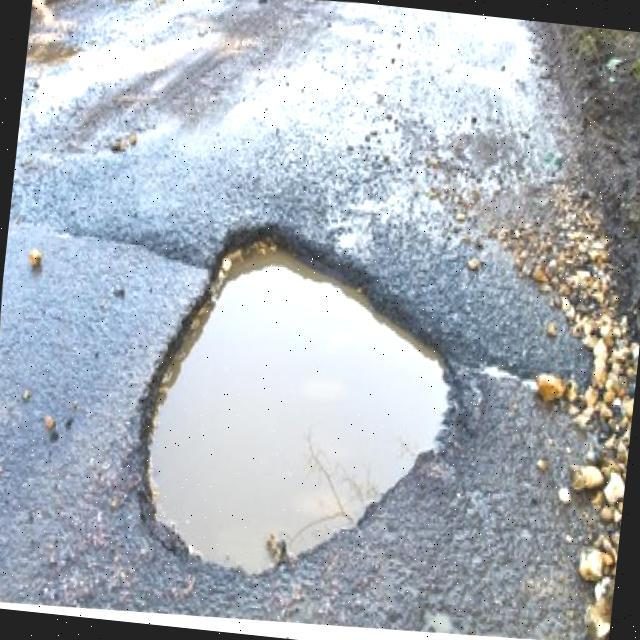Pothole: (141, 232, 449, 577)
